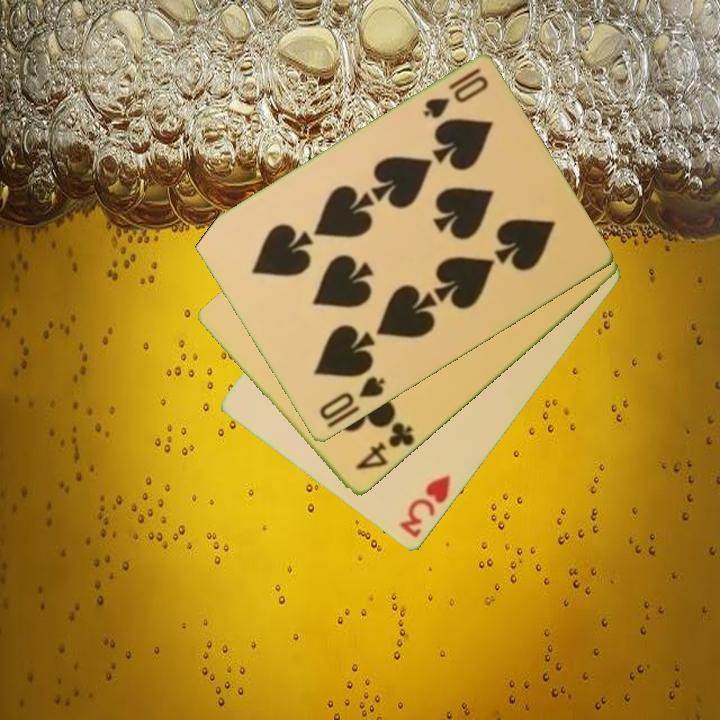10s: (419, 65, 491, 123), (315, 373, 389, 424)
3h: (395, 472, 454, 541)
4c: (352, 418, 418, 474)
